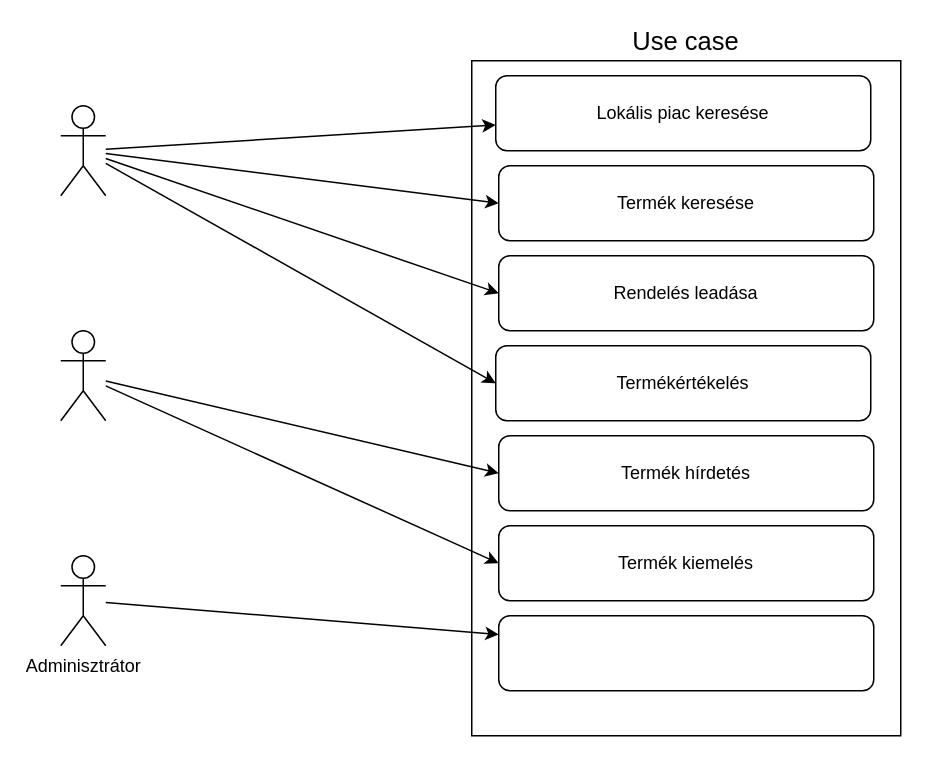
Image size: 927x762. Some labels were removed from this diagram. Here are the shapes that lost their labels. From the top down, the centre of each, then its label:
[82,150]: Felhasználó
[82,375]: Termelő
[685,652]: Aktorok ellenőrzése
